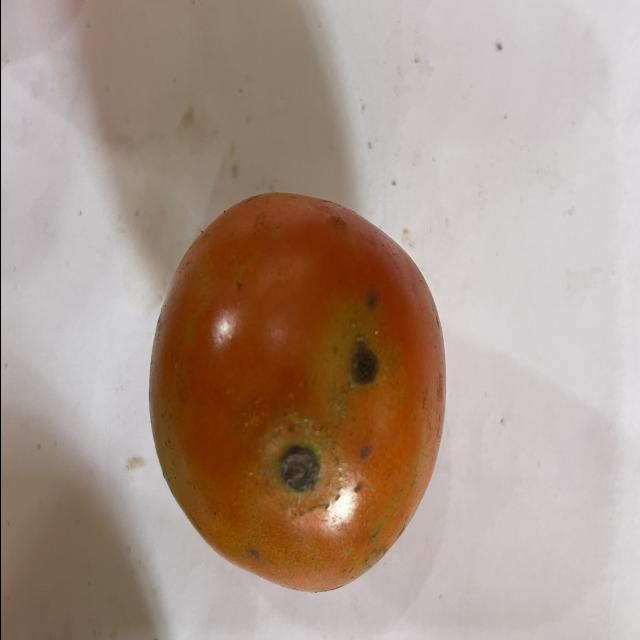fruitworm_bore: (273, 437, 323, 508), (348, 328, 386, 398)
